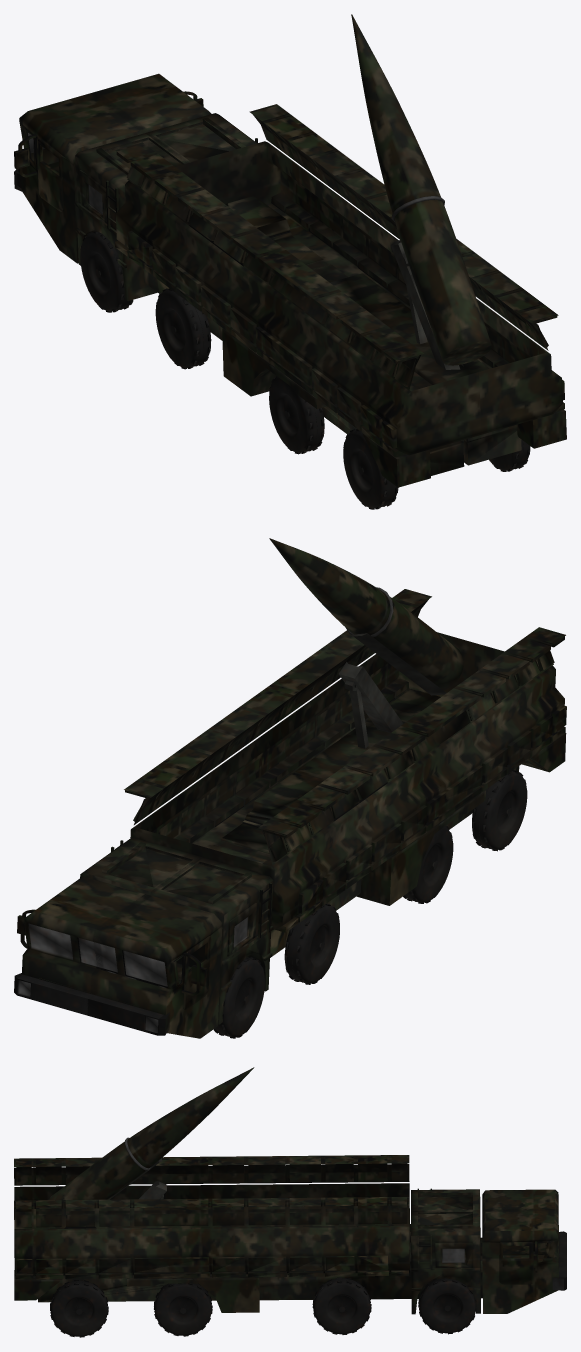
File: iskander-wreck.glb
3 views of the same model, one above another, from view 1: azimuth 30°, elevation 25°; view 2: azimuth 150°, elevation 25°; view 3: azimuth 270°, elevation 25° (orthographic). The views are drawn at different scales.
Visible parts, largest first — view 1: hull; view 2: hull; view 3: hull.
Boxes of the visible parts, bbox=[...] form: hull: bbox=[14, 14, 566, 509]; hull: bbox=[14, 538, 566, 1038]; hull: bbox=[14, 1067, 566, 1337].
Bounding box in the file's own units: 3.6 × 6.86 × 13.07.
Materials: 1 (1 with a texture image).
